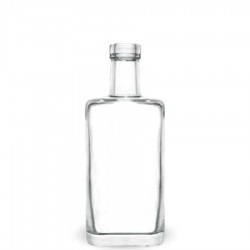container: (82, 40, 171, 249)
